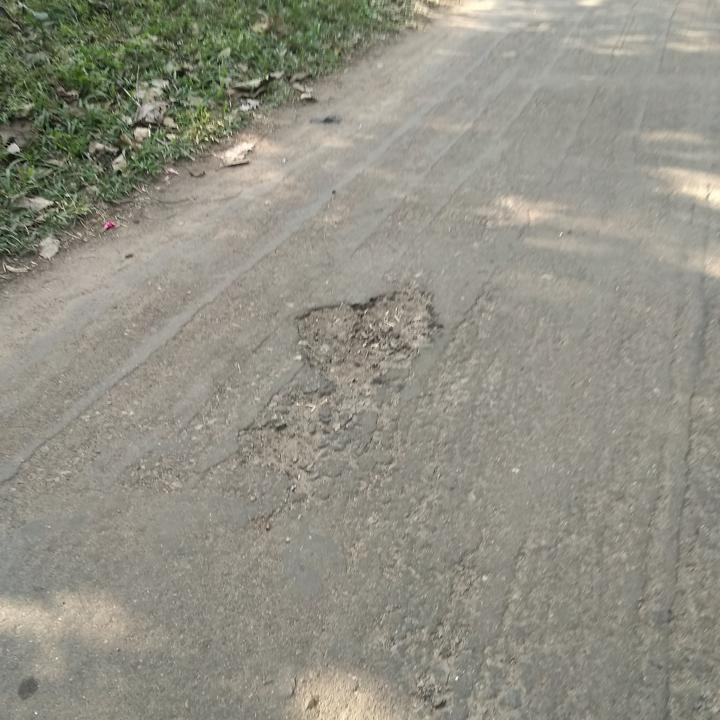pothole: (280, 283, 447, 387), (231, 385, 333, 492)
